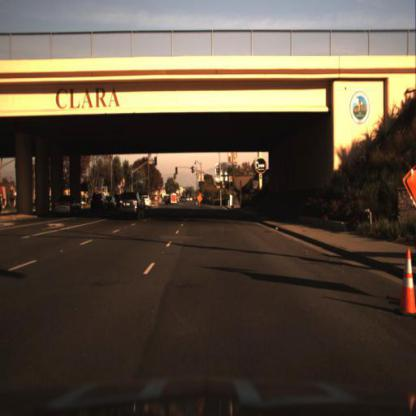car: (117, 190, 145, 227), (53, 191, 82, 218), (89, 188, 110, 215), (162, 191, 179, 207)
